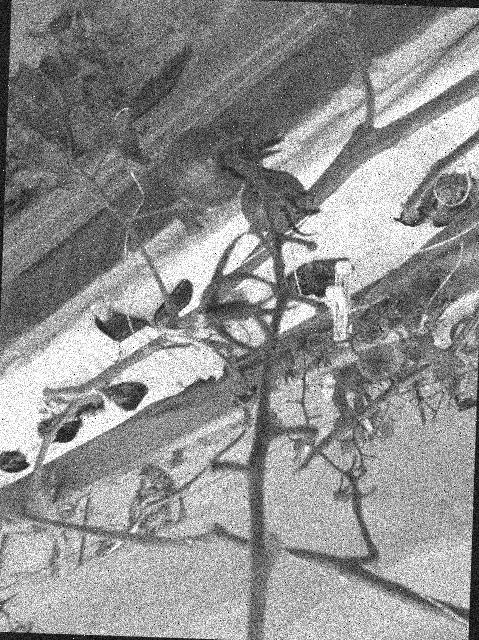l_fully_ripened: (163, 124, 247, 210), (337, 363, 363, 390), (273, 348, 296, 374)
l_green: (209, 115, 264, 184), (369, 361, 394, 383), (350, 376, 374, 398), (283, 331, 306, 352), (446, 379, 466, 396)
l_half_ripened: (238, 168, 309, 234), (304, 332, 331, 358), (411, 375, 431, 394), (293, 437, 312, 456)
